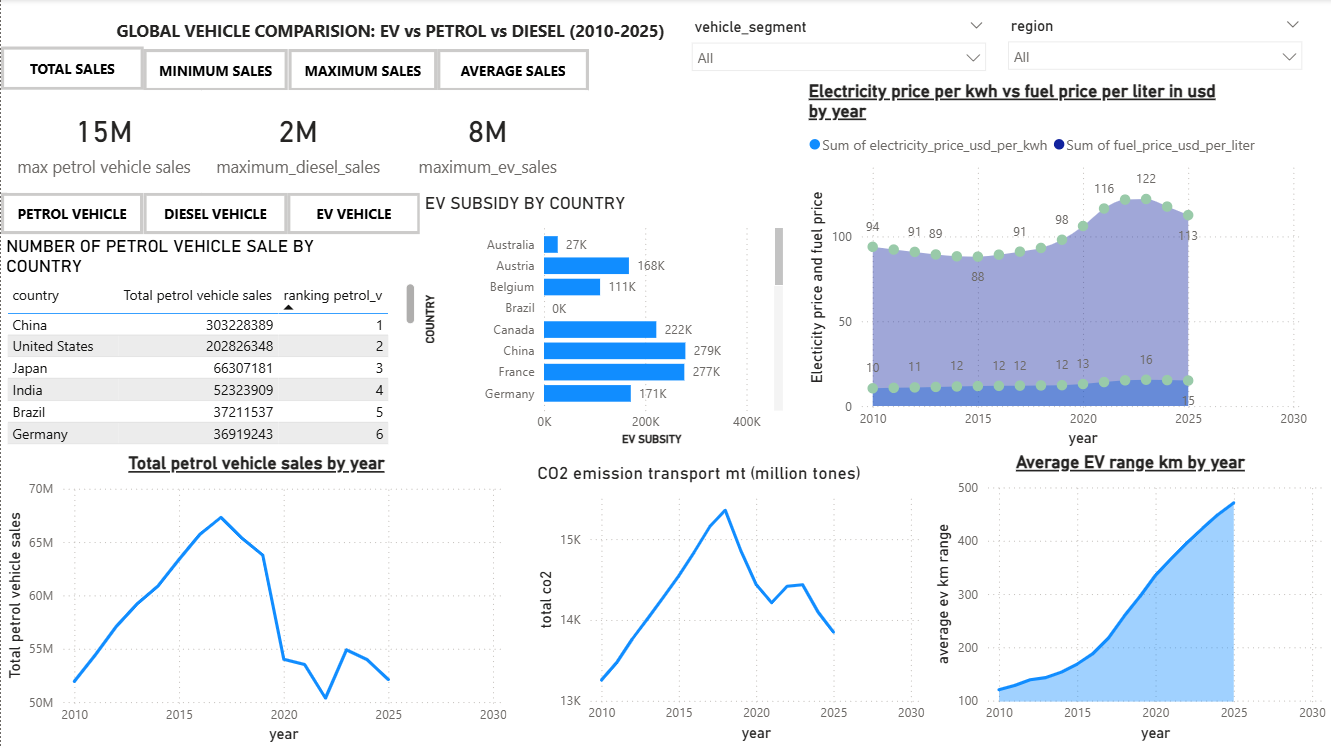

The dashboard page shown, as its layout file describes it:
{"tool":"powerbi","page":{"name":"VEHICLE COMPARISION","canvas":[1280,720],"ordinal":0},"visuals":[{"type":"card","fields":{"Values":["dax.Total petrol vehicle sales"]},"box":[8.7,88.2,185.1,98.3],"z":0},{"type":"card","fields":{"Values":["dax.total_diesel_sales"]},"box":[193.8,88.2,185.1,98.3],"z":1000},{"type":"card","fields":{"Values":["dax.total_ev_sales"]},"box":[380.3,88.2,185.1,98.3],"z":2000},{"type":"tableEx","title":"NUMBER OF PETROL VEHICLE SALE BY COUNTRY","fields":{"Values":["ev_vs_petrol_dataset_v3.country","dax.Total petrol vehicle sales","Sales Record.ranking petrol_v"]},"box":[0,226.8,403.5,209.5],"z":3000},{"type":"textbox","box":[52.9,14.4,629.3,31.3],"z":4000},{"type":"actionButton","box":[0,187,136.8,39.8],"z":7000},{"type":"actionButton","box":[136.8,187,138.5,39.8],"z":8000},{"type":"actionButton","box":[275.3,187,128.1,39.8],"z":9000},{"type":"actionButton","box":[0,46.3,137.4,41.9],"z":10000},{"type":"actionButton","box":[419.3,47.7,146,40.5],"z":11000},{"type":"actionButton","box":[137.4,47.7,138.8,40.5],"z":12000},{"type":"actionButton","box":[276.2,47.7,143.2,40.5],"z":13000},{"type":"card","fields":{"Values":["dax.average_diesel_sales"]},"box":[193.8,88.2,185.1,98.3],"z":14000},{"type":"card","fields":{"Values":["dax.average petrol vehicle sales"]},"box":[7.2,88.2,186.5,98.3],"z":15000},{"type":"card","fields":{"Values":["dax.average_ev_sales"]},"box":[378.9,88.2,186.5,98.3],"z":16000},{"type":"card","fields":{"Values":["dax.min petrol vehicle sales"]},"box":[5.8,88.2,186.5,98.3],"z":17000},{"type":"card","fields":{"Values":["dax.minimum_diesel_sales"]},"box":[193.8,88.2,185.1,98.3],"z":18000},{"type":"card","fields":{"Values":["dax.minimum_ev_sales"]},"box":[378.9,88.2,186.5,98.3],"z":19000},{"type":"card","fields":{"Values":["dax.maximum_ev_sales"]},"box":[376,88.2,186.5,98.3],"z":20000},{"type":"card","fields":{"Values":["dax.maximum_diesel_sales"]},"box":[193.8,88.2,185.1,98.3],"z":21000},{"type":"card","fields":{"Values":["dax.max petrol vehicle sales"]},"box":[5.8,88.2,186.5,98.3],"z":22000},{"type":"lineChart","fields":{"Y":["dax.Total petrol vehicle sales"],"Category":["ev_vs_petrol_dataset_v3.year"]},"box":[0,436.4,491.8,284],"z":23000},{"type":"slicer","fields":{"Values":["ev_vs_petrol_dataset_v3.vehicle_segment"]},"box":[655,13,303.7,68],"z":26000},{"type":"slicer","fields":{"Values":["ev_vs_petrol_dataset_v3.region"]},"box":[958.7,11.6,303.7,68],"z":27000},{"type":"clusteredBarChart","title":"EV SUBSIDY BY COUNTRY","fields":{"Y":["dax.t ev subsidy"],"Category":["ev_vs_petrol_dataset_v3.country"]},"box":[403.4,186.5,354.3,248.7],"z":28000},{"type":"areaChart","title":"Electricity price per kwh vs fuel price per liter in usd  by year","fields":{"Category":["ev_vs_petrol_dataset_v3.year"],"Y":["Sum(ev_vs_petrol_dataset_v3.electricity_price_usd_per_kwh)","Sum(ev_vs_petrol_dataset_v3.fuel_price_usd_per_liter)"]},"box":[772.5,78.2,489.7,357.4],"z":30000},{"type":"areaChart","title":"Average EV range km by year","fields":{"Category":["ev_vs_petrol_dataset_v3.year"],"Y":["dax.average ev km range"]},"box":[893.8,435,386.2,283.8],"z":31002},{"type":"lineChart","title":"CO2 emission transport mt (million tones)","fields":{"Y":["dax.total co2"],"Category":["ev_vs_petrol_dataset_v3.year"]},"box":[511.4,446.4,382.6,273.1],"z":31003}]}

Visuals, with their boxes in screenshot pixels (x1, y1, x2, y2), scaled from the page's 1280x720 canvas onto the 1331x746 screenshot:
card - dax.Total petrol vehicle sales: pyautogui.locateOnScreen(9, 91, 202, 193)
card - dax.total_diesel_sales: pyautogui.locateOnScreen(202, 91, 394, 193)
card - dax.total_ev_sales: pyautogui.locateOnScreen(395, 91, 588, 193)
"NUMBER OF PETROL VEHICLE SALE BY COUNTRY" tableEx: pyautogui.locateOnScreen(0, 235, 420, 452)
textbox: pyautogui.locateOnScreen(55, 15, 709, 47)
actionButton: pyautogui.locateOnScreen(0, 194, 142, 235)
actionButton: pyautogui.locateOnScreen(142, 194, 286, 235)
actionButton: pyautogui.locateOnScreen(286, 194, 419, 235)
actionButton: pyautogui.locateOnScreen(0, 48, 143, 91)
actionButton: pyautogui.locateOnScreen(436, 49, 588, 91)
actionButton: pyautogui.locateOnScreen(143, 49, 287, 91)
actionButton: pyautogui.locateOnScreen(287, 49, 436, 91)
card - dax.average_diesel_sales: pyautogui.locateOnScreen(202, 91, 394, 193)
card - dax.average petrol vehicle sales: pyautogui.locateOnScreen(7, 91, 201, 193)
card - dax.average_ev_sales: pyautogui.locateOnScreen(394, 91, 588, 193)
card - dax.min petrol vehicle sales: pyautogui.locateOnScreen(6, 91, 200, 193)
card - dax.minimum_diesel_sales: pyautogui.locateOnScreen(202, 91, 394, 193)
card - dax.minimum_ev_sales: pyautogui.locateOnScreen(394, 91, 588, 193)
card - dax.maximum_ev_sales: pyautogui.locateOnScreen(391, 91, 585, 193)
card - dax.maximum_diesel_sales: pyautogui.locateOnScreen(202, 91, 394, 193)
card - dax.max petrol vehicle sales: pyautogui.locateOnScreen(6, 91, 200, 193)
lineChart - dax.Total petrol vehicle sales x ev_vs_petrol_dataset_v3.year: pyautogui.locateOnScreen(0, 452, 511, 745)
slicer - ev_vs_petrol_dataset_v3.vehicle_segment: pyautogui.locateOnScreen(681, 13, 997, 84)
slicer - ev_vs_petrol_dataset_v3.region: pyautogui.locateOnScreen(997, 12, 1313, 82)
"EV SUBSIDY BY COUNTRY" clusteredBarChart: pyautogui.locateOnScreen(419, 193, 788, 451)
"Electricity price per kwh vs fuel price per liter in usd  by year" areaChart: pyautogui.locateOnScreen(803, 81, 1312, 451)
"Average EV range km by year" areaChart: pyautogui.locateOnScreen(929, 451, 1330, 745)
"CO2 emission transport mt (million tones)" lineChart: pyautogui.locateOnScreen(532, 463, 930, 745)
